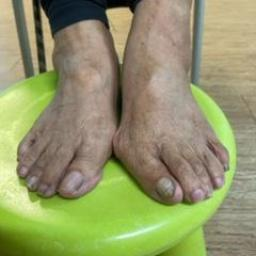Front View -Both Feet-: (4, 38, 246, 228)
